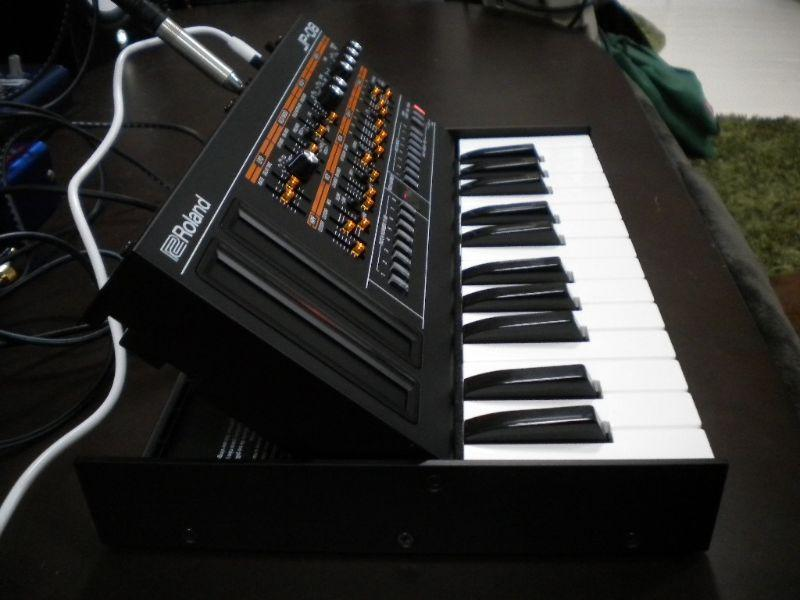synthesizer: (92, 16, 732, 525)
